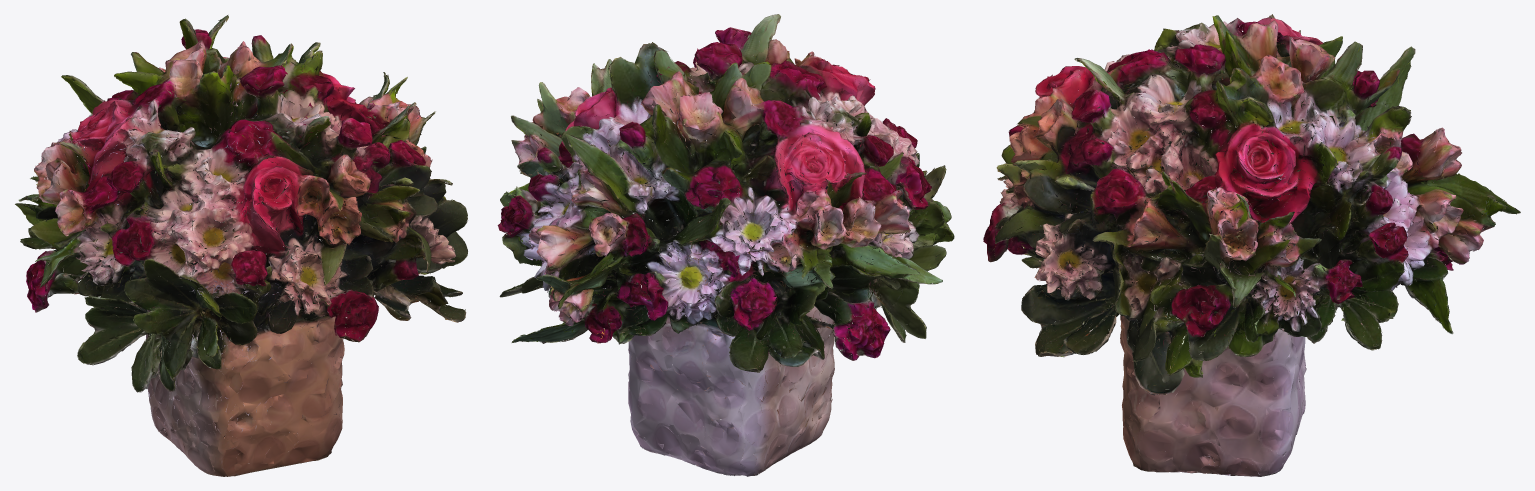
The model's file is obj_pink_and_red_flower_arrangem_538ebb.glb.
The picture shows the model from 3 angles, left to right: view 1: azimuth 30°, elevation 25°; view 2: azimuth 150°, elevation 25°; view 3: azimuth 270°, elevation 25°; orthographic projection. The views are drawn at different scales.
Parts seen in each view (by area): view 1: obj_pink_and_red_flower_arrangem_538ebb; view 2: obj_pink_and_red_flower_arrangem_538ebb; view 3: obj_pink_and_red_flower_arrangem_538ebb.
Boxes of the visible parts, <box> form: obj_pink_and_red_flower_arrangem_538ebb: <box>15,15,467,476</box>; obj_pink_and_red_flower_arrangem_538ebb: <box>497,14,954,476</box>; obj_pink_and_red_flower_arrangem_538ebb: <box>983,14,1520,476</box>.
Size of the model in its own units: 0.4571 by 0.4012 by 0.4789.
1 material, 1 textured.
